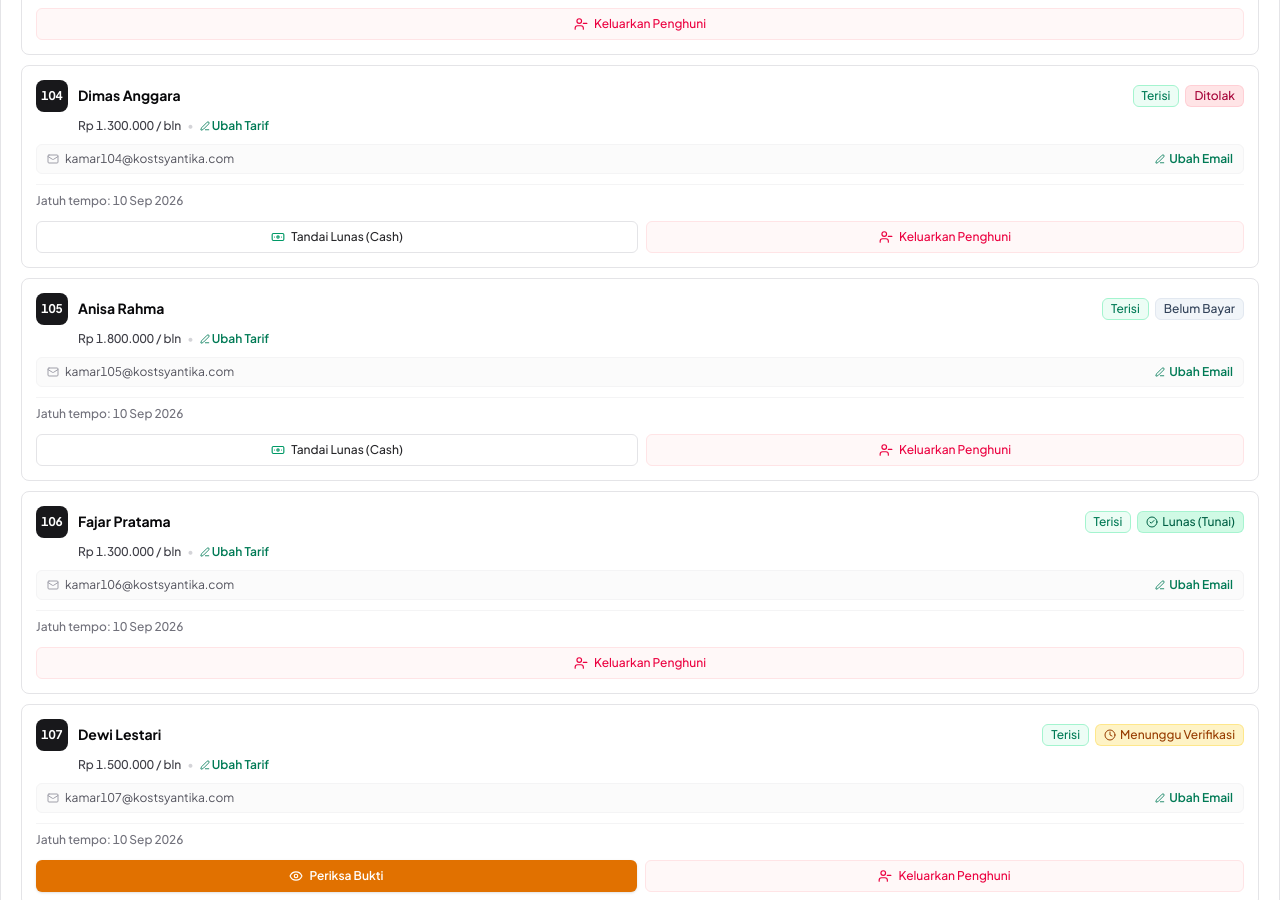
PemilikManajemenKamar Integration (Issue 03) › 2. Alur Keluarkan Penghuni (Soft Disconnect) dengan pilihan batalkan tagihan aktif
(page scrolled)
expect the text "Anisa Rahma" is shown: met, box [78, 300, 164, 318]
Click the button with aria-label "Keluarkan Penghuni Kamar 105" at [945, 450], box [646, 434, 1244, 466]
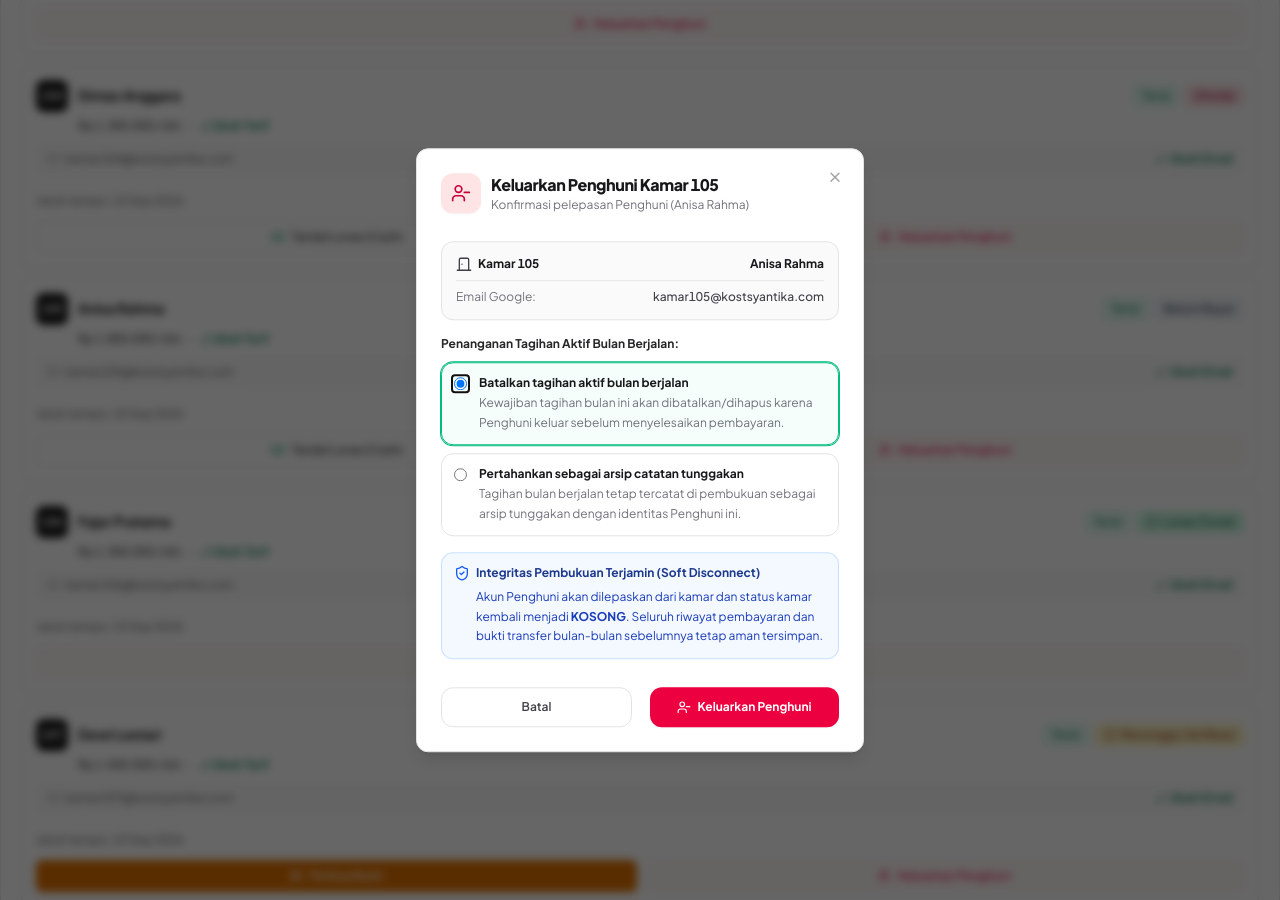
expect the heading "Keluarkan Penghuni Kamar 105" is shown: met, box [491, 173, 749, 197]
expect the text "Integritas Pembukuan Terjamin (Soft Disconnect)" is shown: met, box [476, 565, 760, 581]
expect the radio button labelled "Batalkan tagihan aktif bulan berjalan" is checked: met, box [454, 377, 467, 390]
Click the button "Keluarkan Penghuni" at [744, 707], box [650, 687, 839, 727]
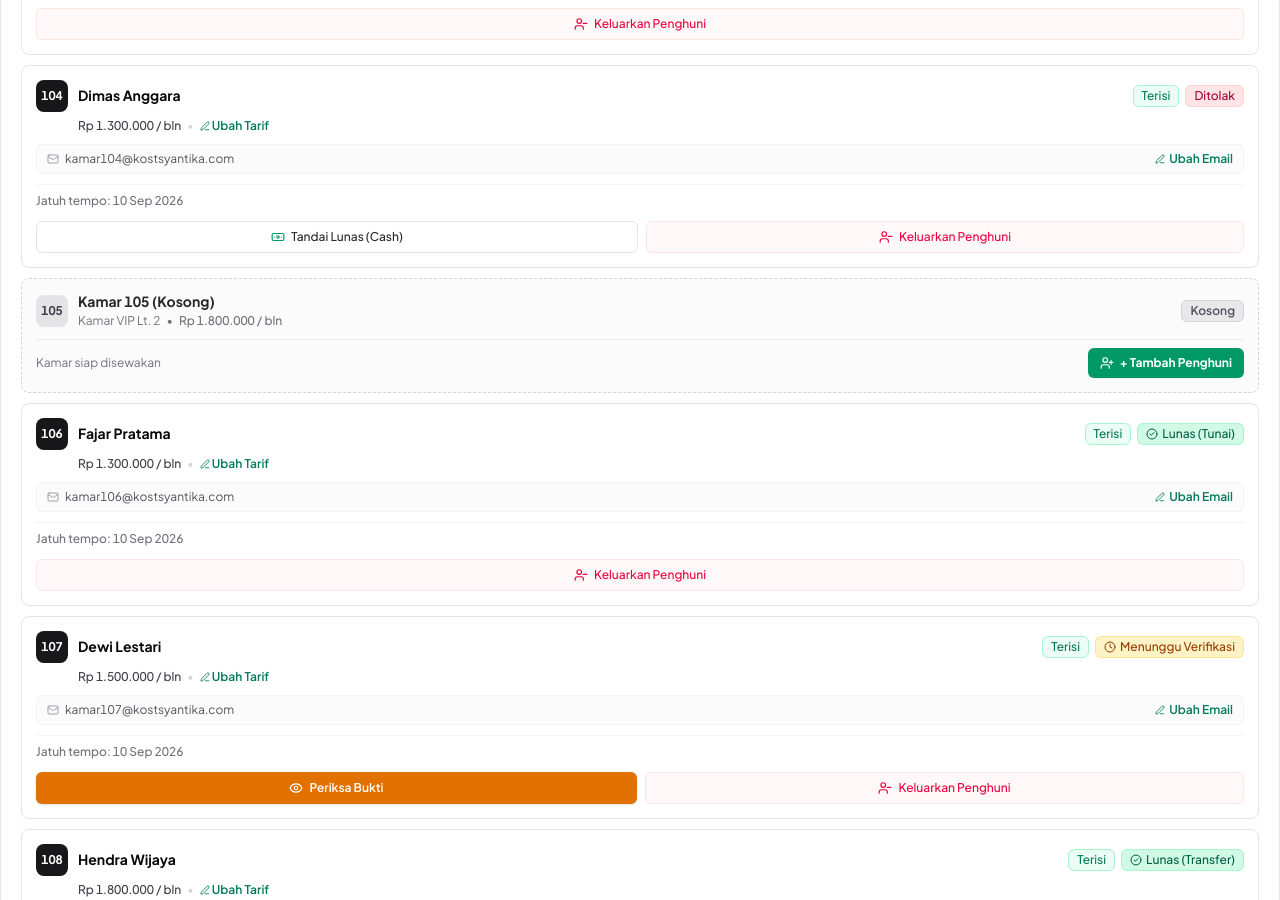
expect the text "Kamar 105 (Kosong)" is shown: met, box [78, 292, 215, 310]
expect the text "Kamar siap disewakan" is shown: met, box [36, 354, 161, 370]
expect the button with aria-label "Tambah Penghuni Kamar 105" is shown: met, box [1088, 348, 1244, 378]
